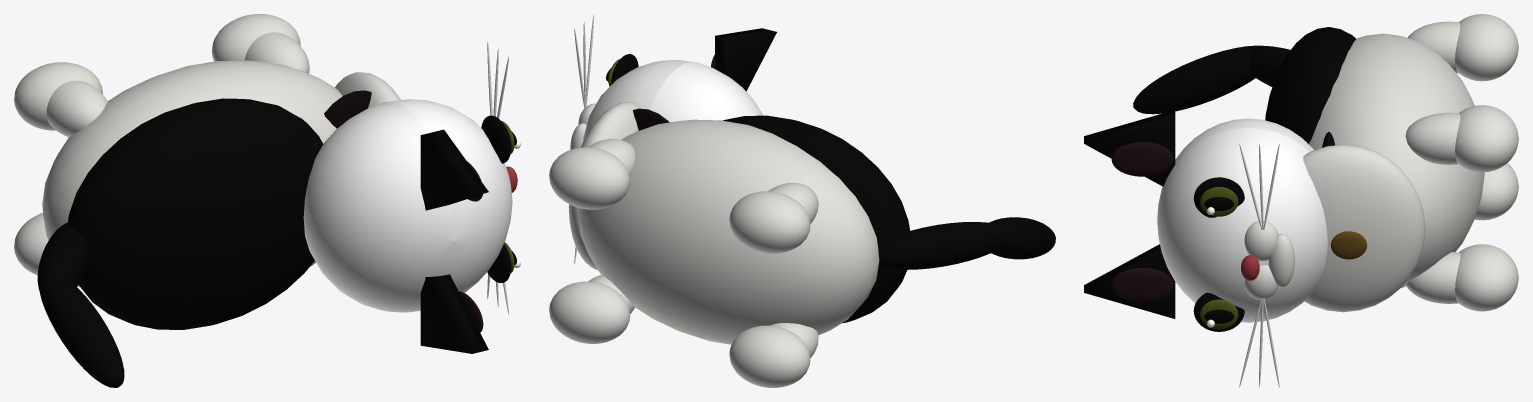
File: Lakitu.obj
3 renders of one model, left to right at view 1: azimuth 30°, elevation 25°; view 2: azimuth 150°, elevation 25°; view 3: azimuth 270°, elevation 25°, orthographic. The views are drawn at different scales.
Visible parts, largest first — view 1: part516, part1546, part1, part18216, part2239, part6880, part16671, part17186, part14611, part17701, part15126, part15641 (+4 smaller); view 2: part1, part516, part1546, part17701, part14611, part15641, part16671, part13581, part6880, part18216, part1031, part17186 (+4 smaller); view 3: part1546, part1, part1031, part516, part18216, part13581, part14611, part16671, part6880, part15126, part2239, part14096 (+14 smaller).
Part boxes in pixels (box(x1,y1,x2,y2)): part516: box(67, 98, 323, 329); part1546: box(303, 99, 512, 312); part1: box(42, 60, 342, 266); part18216: box(39, 272, 124, 387); part2239: box(420, 274, 488, 353); part6880: box(420, 129, 488, 210); part16671: box(14, 62, 102, 130); part17186: box(46, 80, 107, 137); part14611: box(211, 14, 300, 61); part17701: box(37, 222, 89, 291); part15126: box(245, 32, 309, 73); part15641: box(14, 213, 48, 274); part1: box(578, 119, 879, 344); part516: box(723, 115, 909, 323); part1546: box(583, 59, 762, 141); part17701: box(878, 222, 1008, 269); part14611: box(549, 147, 630, 209); part15641: box(729, 325, 810, 387); part16671: box(729, 191, 810, 253); part13581: box(549, 281, 630, 343); part6880: box(715, 28, 776, 91); part18216: box(988, 217, 1055, 259); part1031: box(568, 102, 641, 270); part17186: box(768, 182, 818, 223); part1546: box(1157, 118, 1327, 322); part1: box(1309, 33, 1484, 287); part1031: box(1303, 144, 1425, 312); part516: box(1265, 27, 1355, 143); part18216: box(1133, 45, 1258, 114); part13581: box(1455, 244, 1518, 311); part14611: box(1455, 105, 1518, 172); part16671: box(1455, 14, 1518, 81); part6880: box(1084, 110, 1175, 186); part15126: box(1405, 112, 1460, 164); part2239: box(1084, 244, 1175, 318); part14096: box(1406, 252, 1460, 303).
Bounding box in the file's own units: 143 × 74 × 119.
